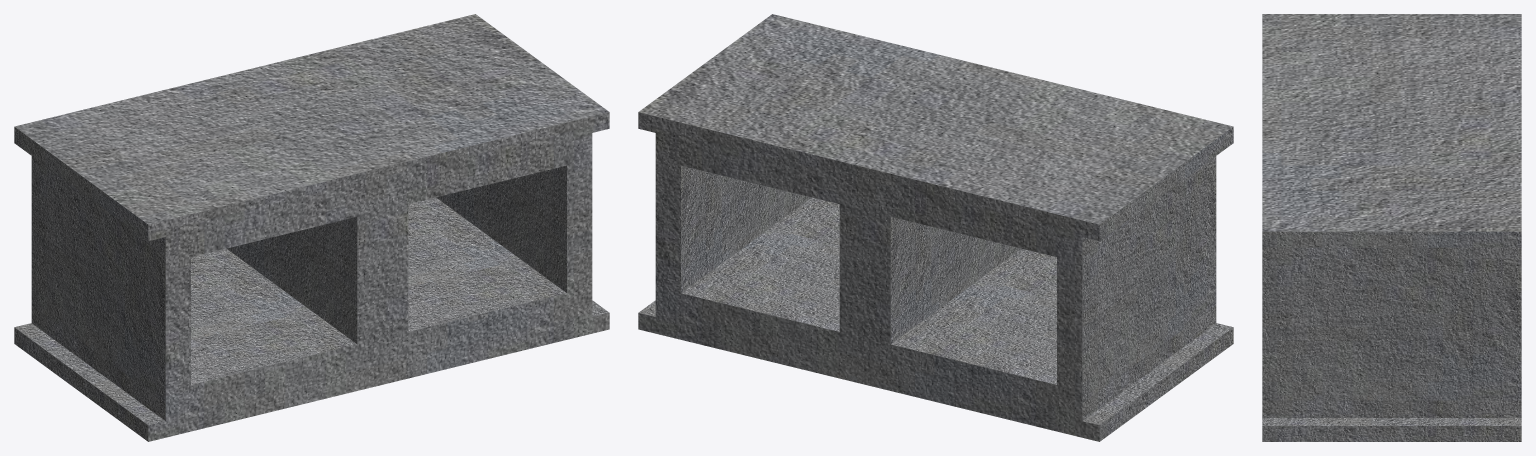
File: cinder_block.FBX
The picture shows the model from 3 angles, left to right: view 1: azimuth 30°, elevation 25°; view 2: azimuth 150°, elevation 25°; view 3: azimuth 270°, elevation 25°; orthographic projection. The views are drawn at different scales.
Parts seen in each view (by area): view 1: cinder_block; view 2: cinder_block; view 3: cinder_block.
Boxes of the visible parts, <box> form: cinder_block: <box>14,14,609,441</box>; cinder_block: <box>638,14,1233,441</box>; cinder_block: <box>1262,14,1521,441</box>.
Size of the model in its own units: 37.43 by 16.84 by 18.84.
